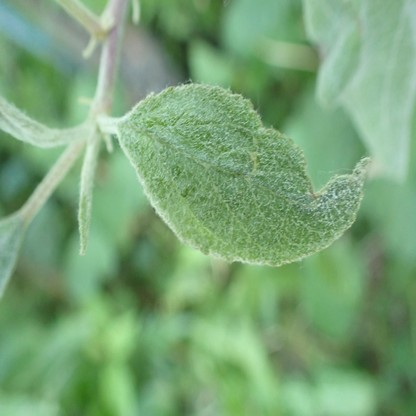powder: (117, 84, 372, 266), (80, 135, 99, 255)
